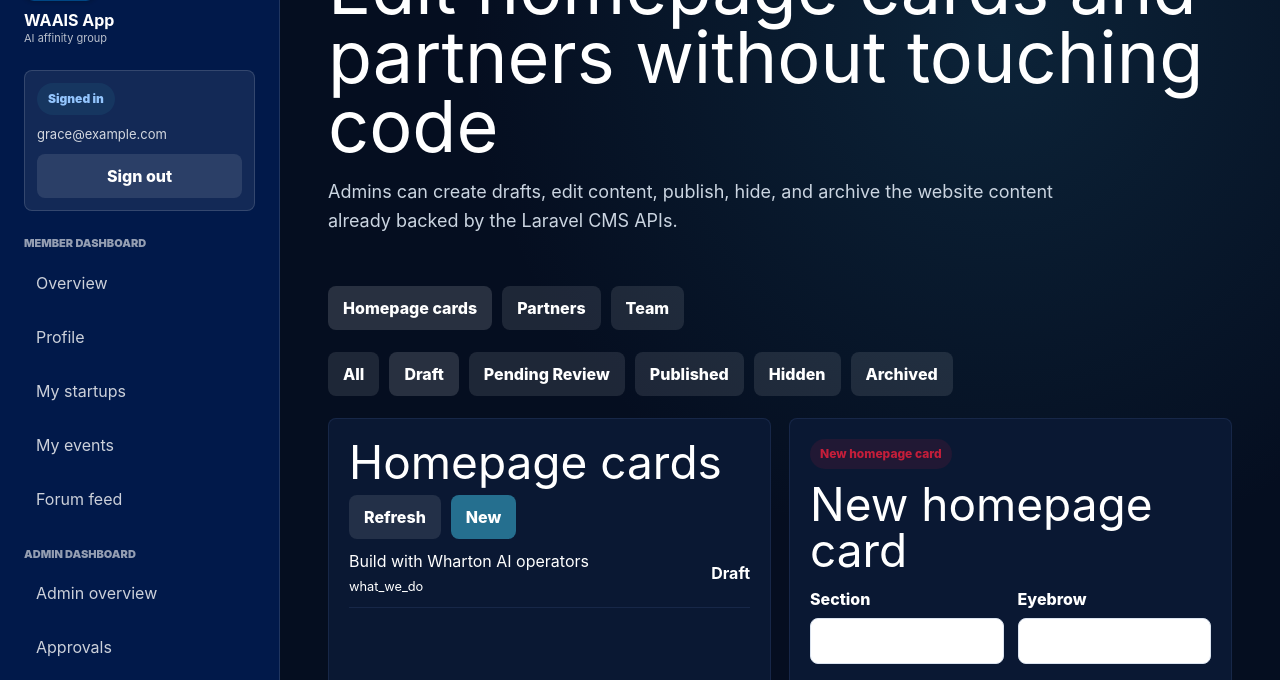
Scenario: member dashboard live state › renders the admin public content homepage-card editor from the admin API
Click the button with class "table-button". click: (550, 573)
box: [349,539,750,608]
(page scrolled)
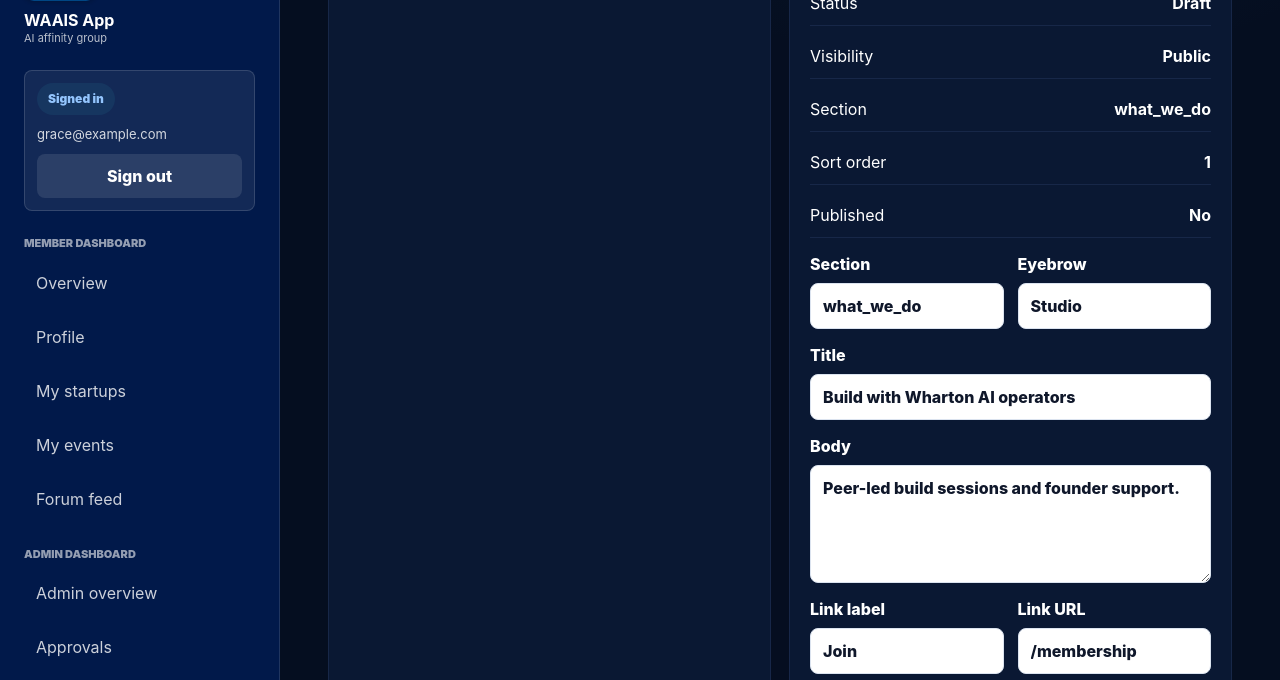
Check: the field labelled "Section" holds "what_we_do", box [810,283,1004,329]
